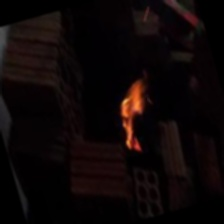fire: (87, 56, 172, 167)
